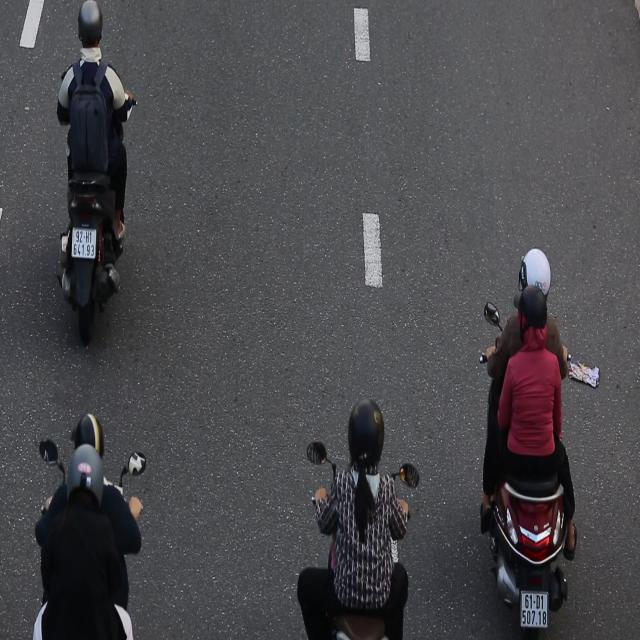motorbike: (473, 243, 588, 640), (50, 5, 139, 352)
